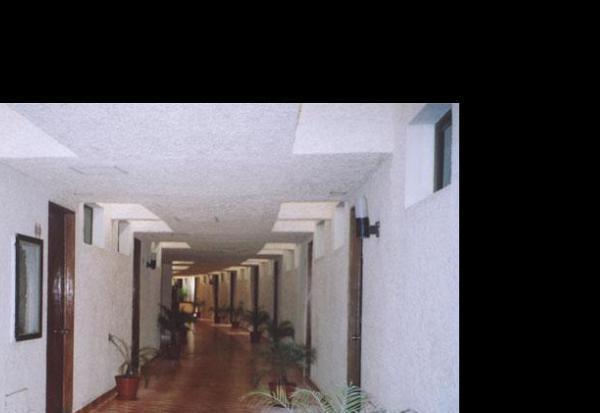Matera: (47, 200, 71, 413), (251, 386, 433, 413), (257, 338, 320, 408), (107, 335, 160, 402), (156, 289, 191, 362), (261, 321, 299, 353), (242, 311, 267, 346)
Puerta: (350, 216, 361, 392)
